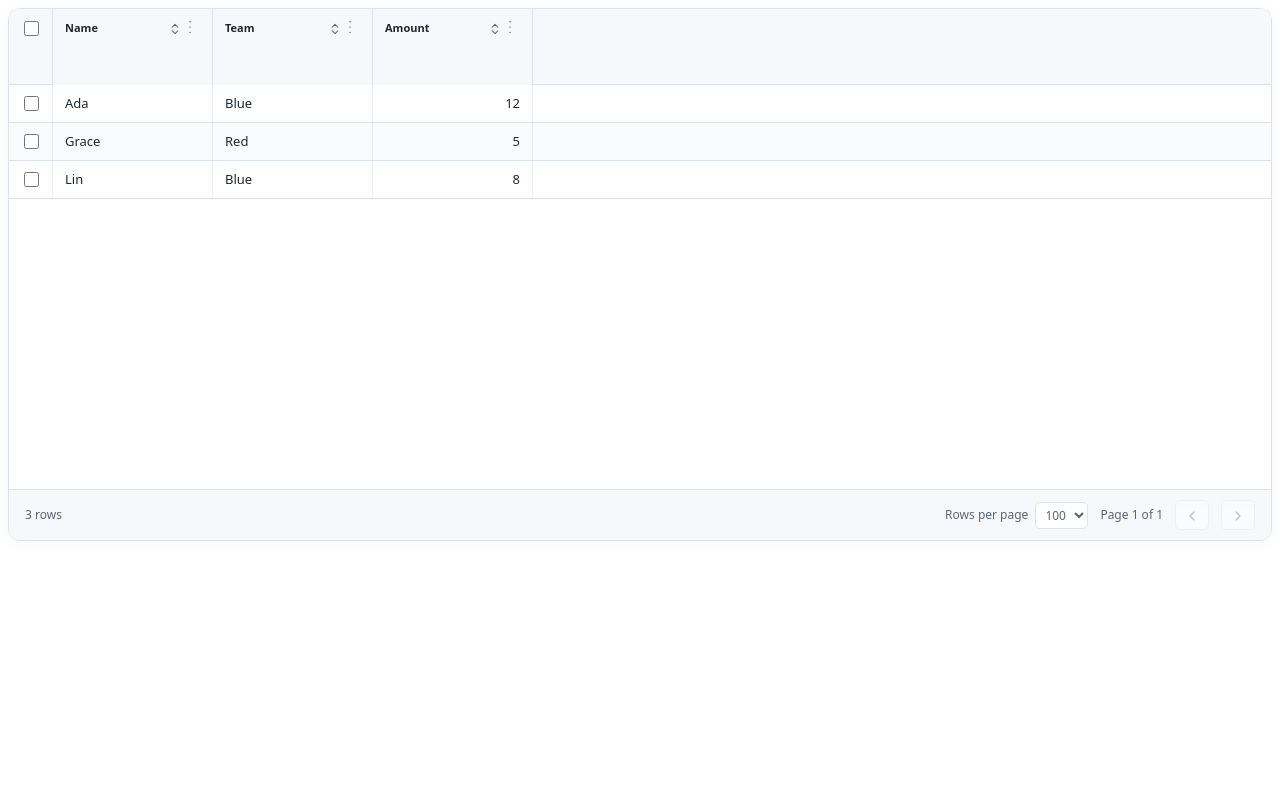
Test: DataGrid column commands › disables policy-unavailable commands and never runs a provider in render or SSR
This screenshot has width=1280, height=800.
Click the button named "Column menu for Name" at (190, 27), box [178, 15, 202, 39]
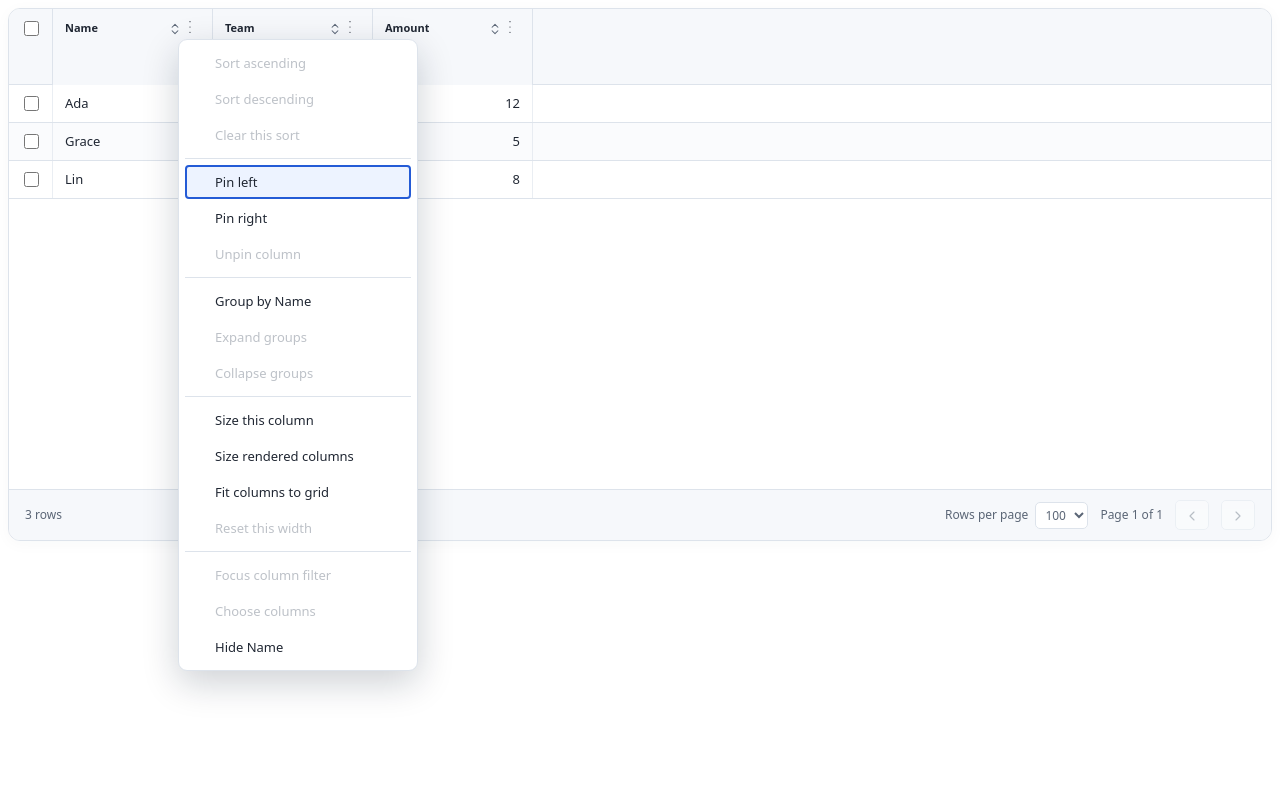
Now the menu item "Sort ascending" is disabled, box [185, 46, 411, 80]
Now the menu item "Sort descending" is disabled, box [185, 82, 411, 116]
Now the menu item "Clear this sort" is disabled, box [185, 118, 411, 152]
